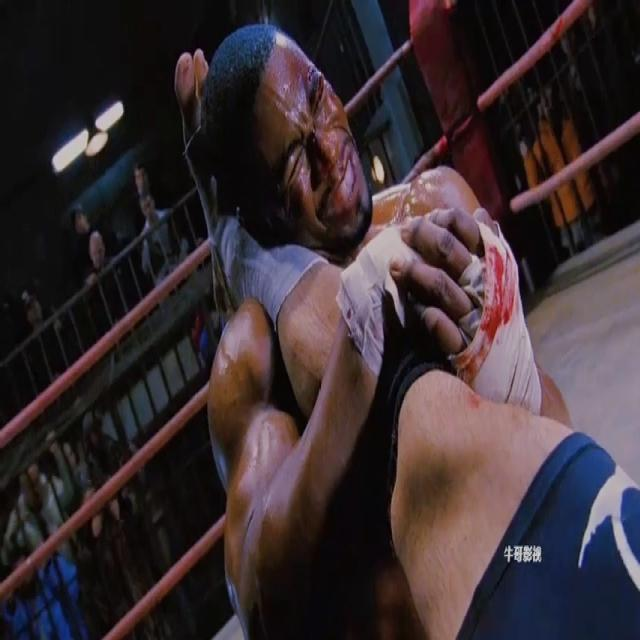fight: (168, 1, 638, 639)
